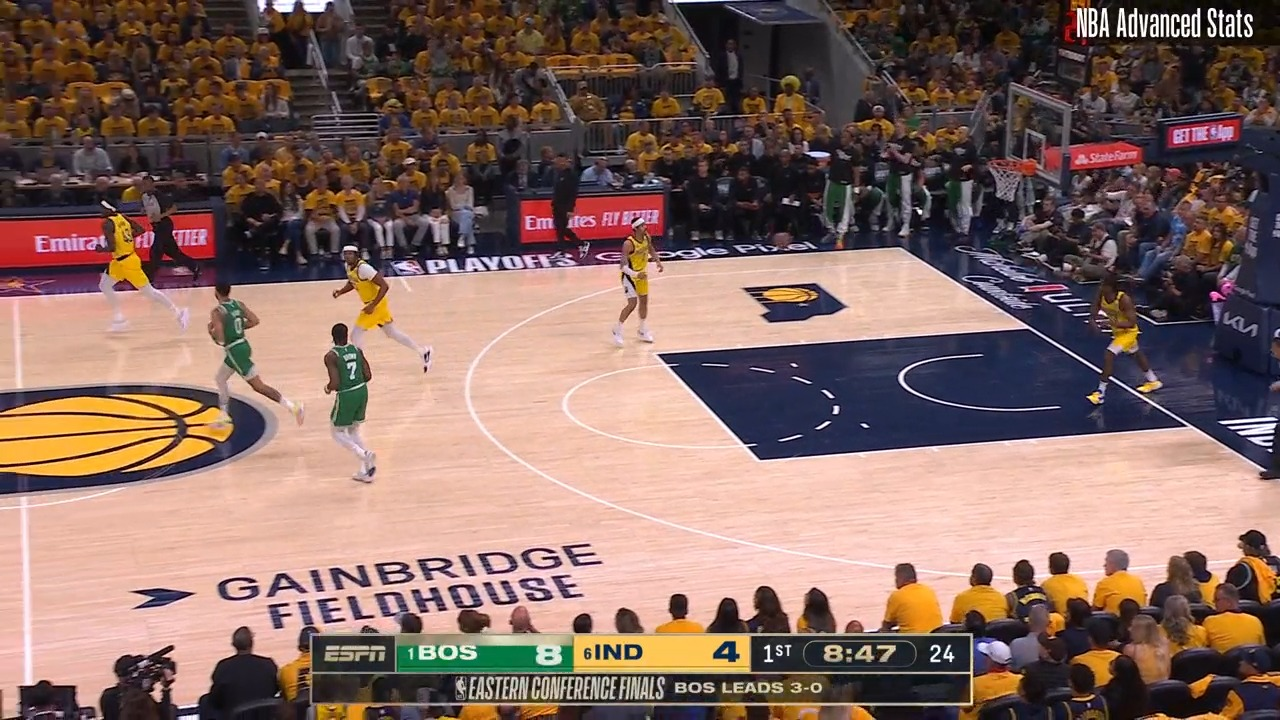basketball: (771, 229, 793, 250)
